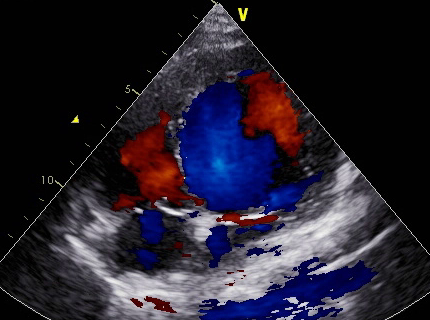MR: (212, 177, 304, 244)
